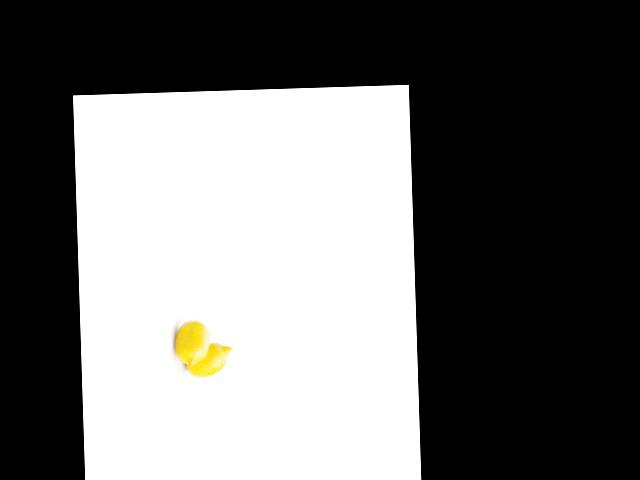lemon: (178, 317, 211, 371)
